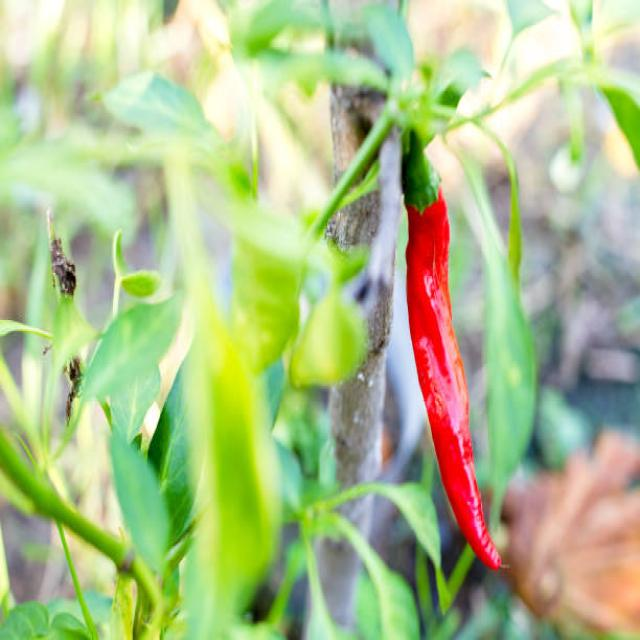Ripe: (405, 195, 500, 571)
